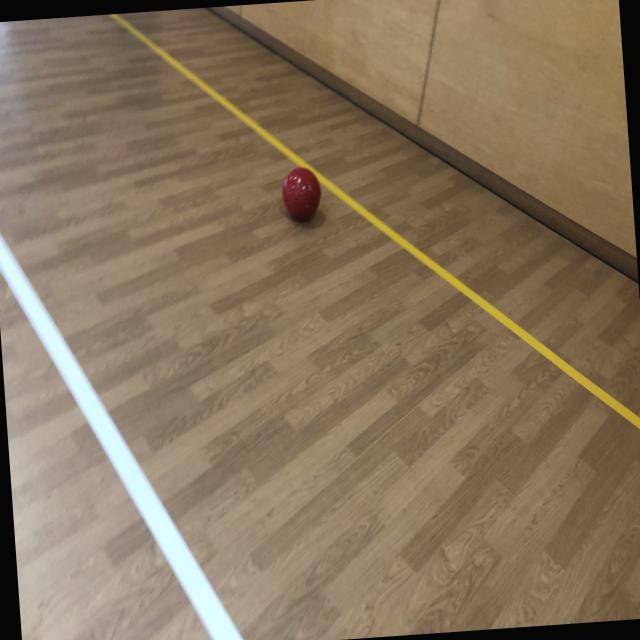red_ball: (280, 165, 321, 222)
